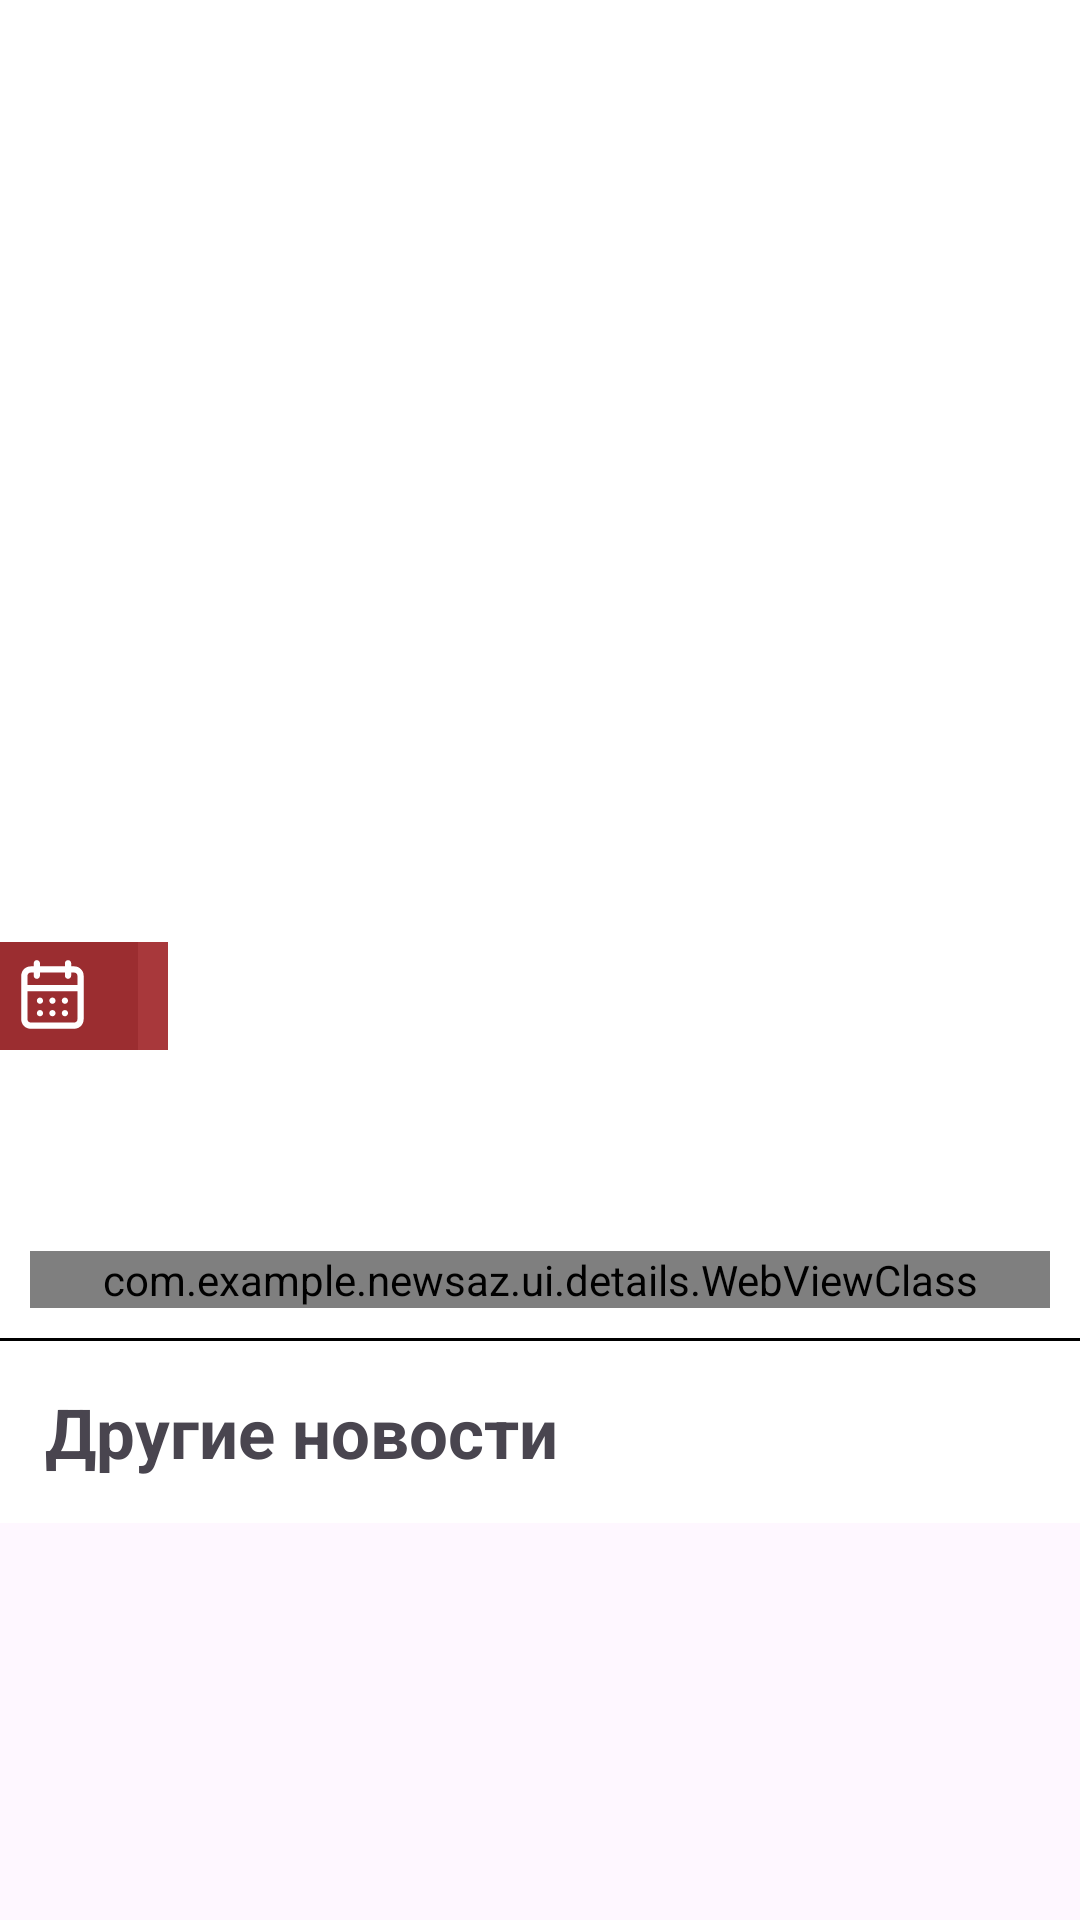

Screen size 1080*1920. Icon name, then its box in pixels as (x1, y1, x2, y2):
calendar: (21, 960, 84, 1029)
